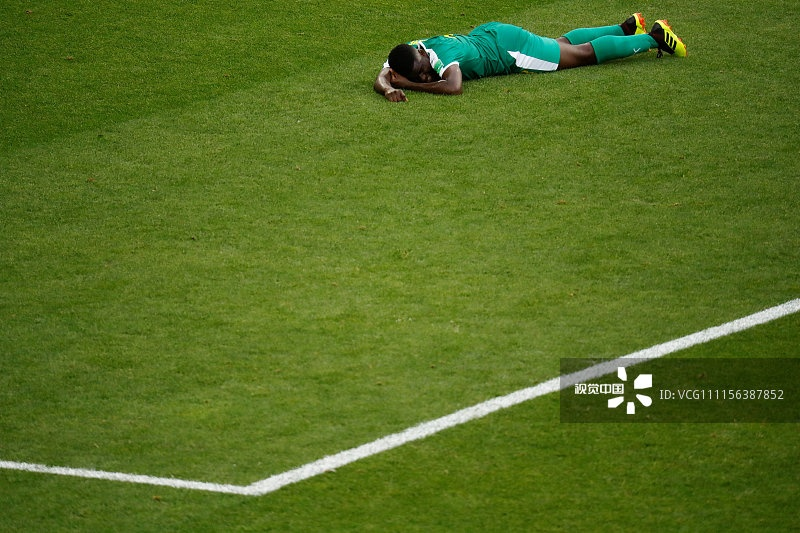falling: (358, 4, 692, 102)
